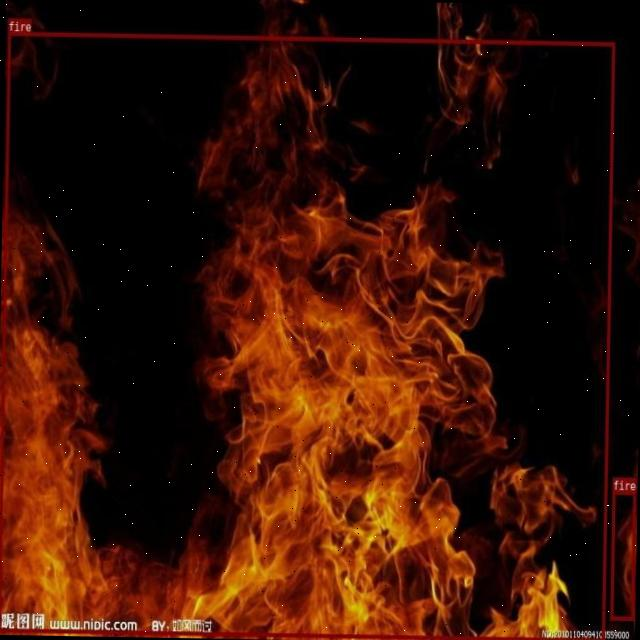fire: (0, 30, 613, 640), (609, 491, 635, 618)
